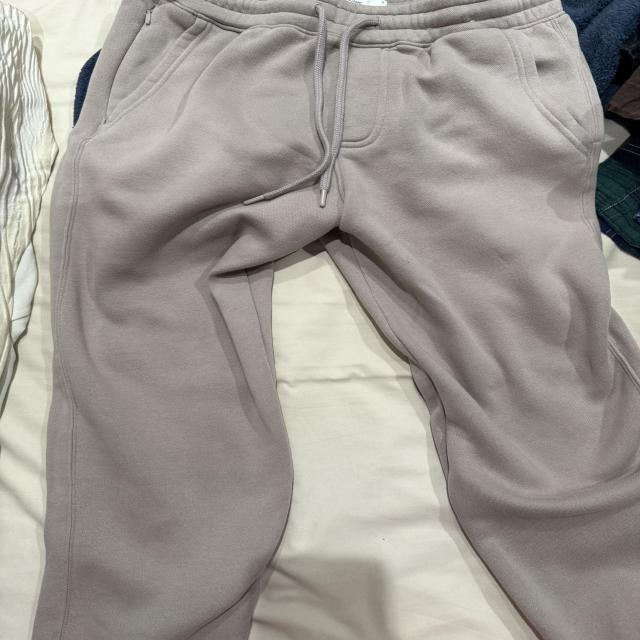back_tag: (331, 0, 412, 17)
